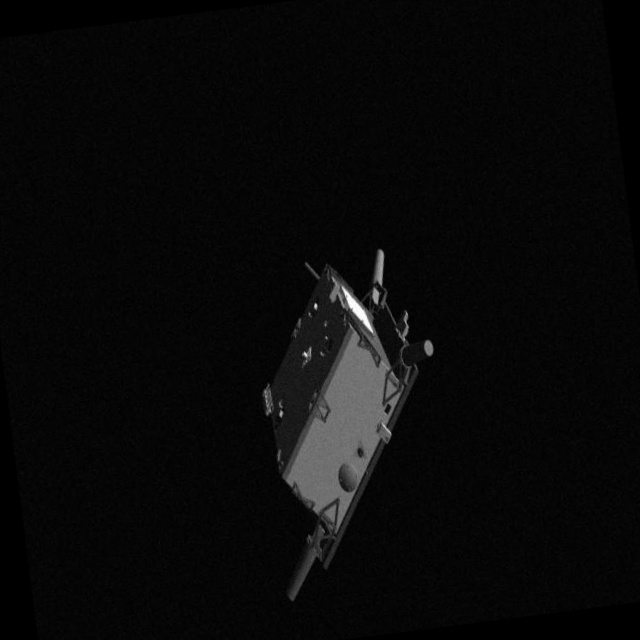medium_debris: (225, 232, 474, 621)
